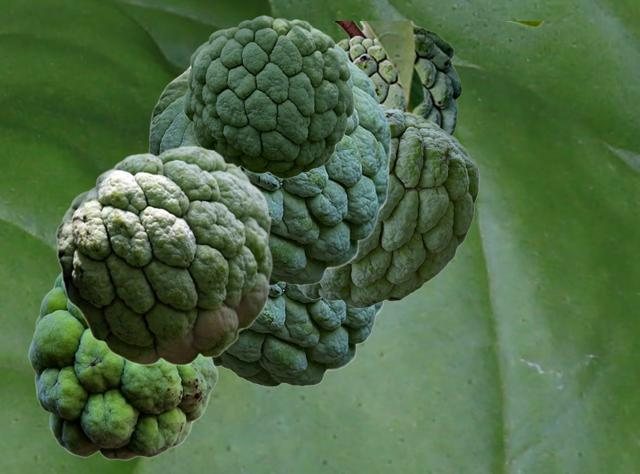atis: (148, 43, 390, 285), (55, 145, 272, 365), (297, 103, 478, 307), (28, 272, 217, 460), (183, 15, 353, 178), (332, 21, 542, 135), (214, 283, 384, 386)
